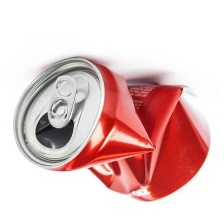can: (8, 46, 214, 205)
